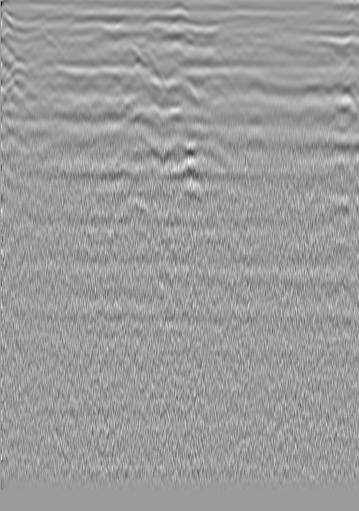가스: (108, 160, 144, 194)
상수: (308, 25, 328, 45)
오수: (33, 27, 53, 47)
우수: (168, 25, 188, 45)
